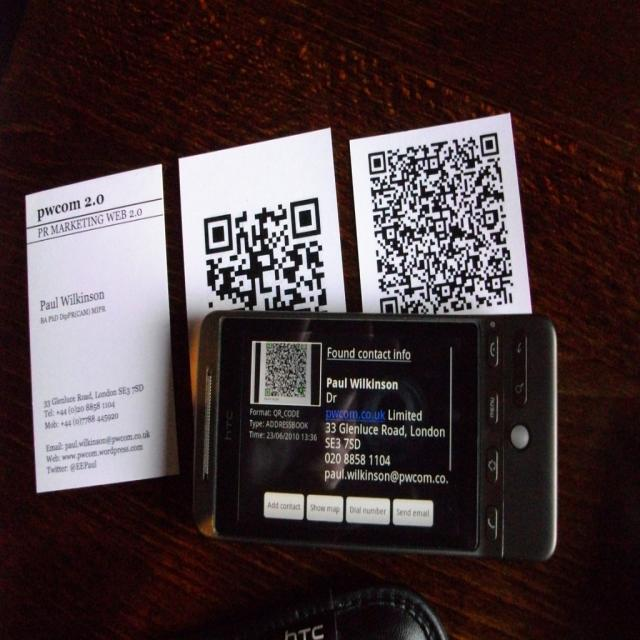Mobile-phone: (185, 304, 568, 562)
